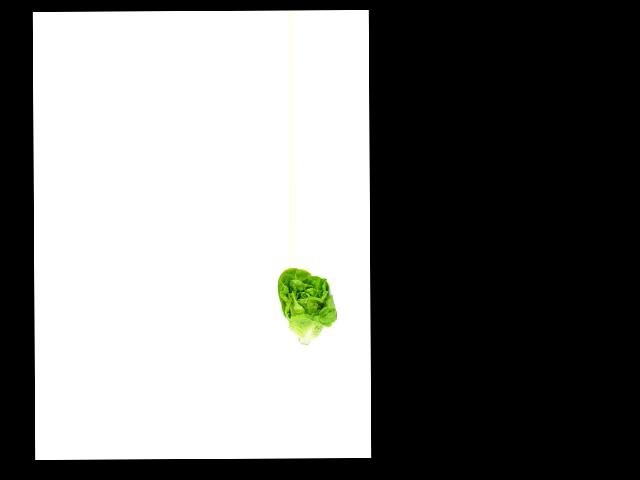lettuce: (275, 267, 341, 347)
